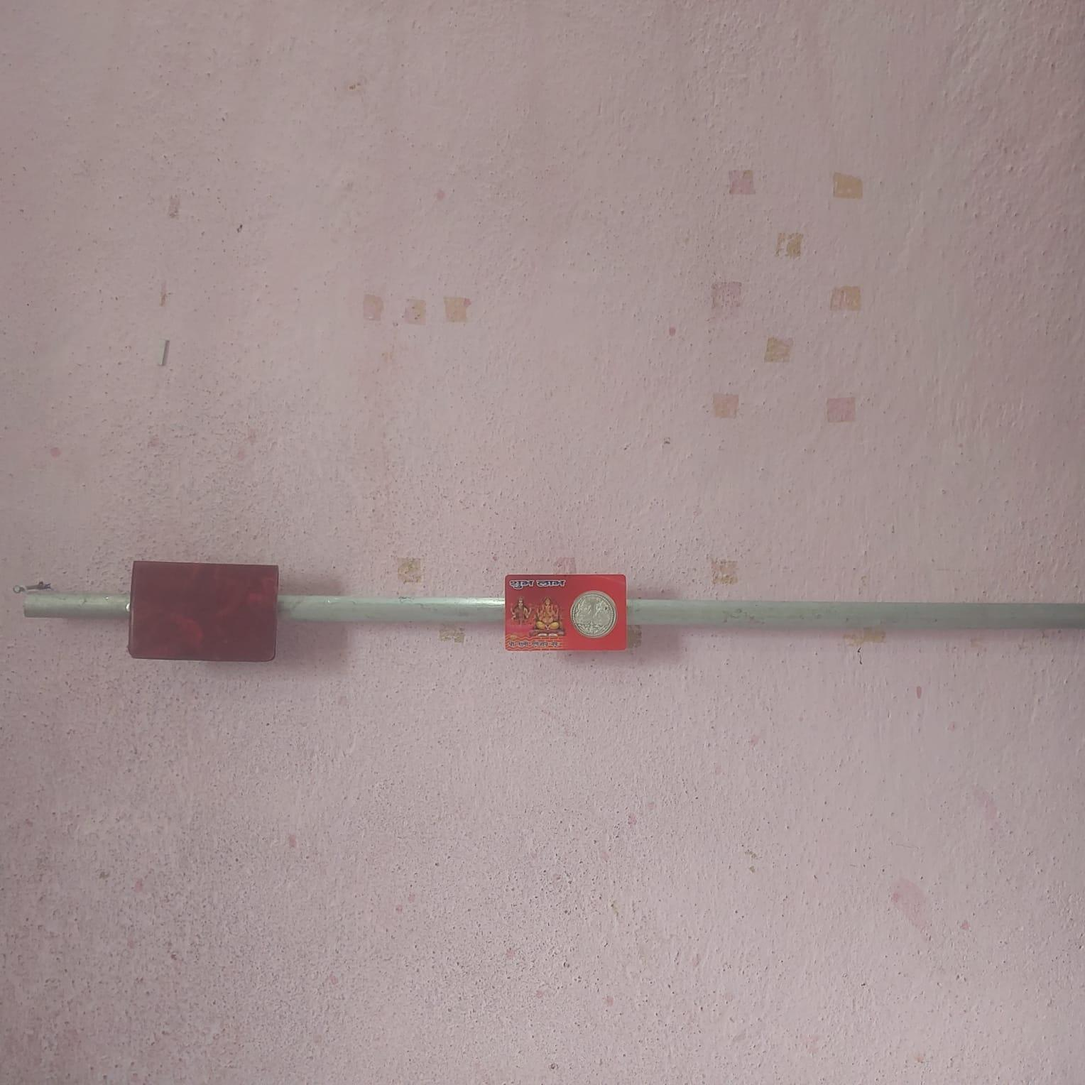blessing_card: (506, 575, 627, 651)
wallet: (131, 562, 284, 658)
